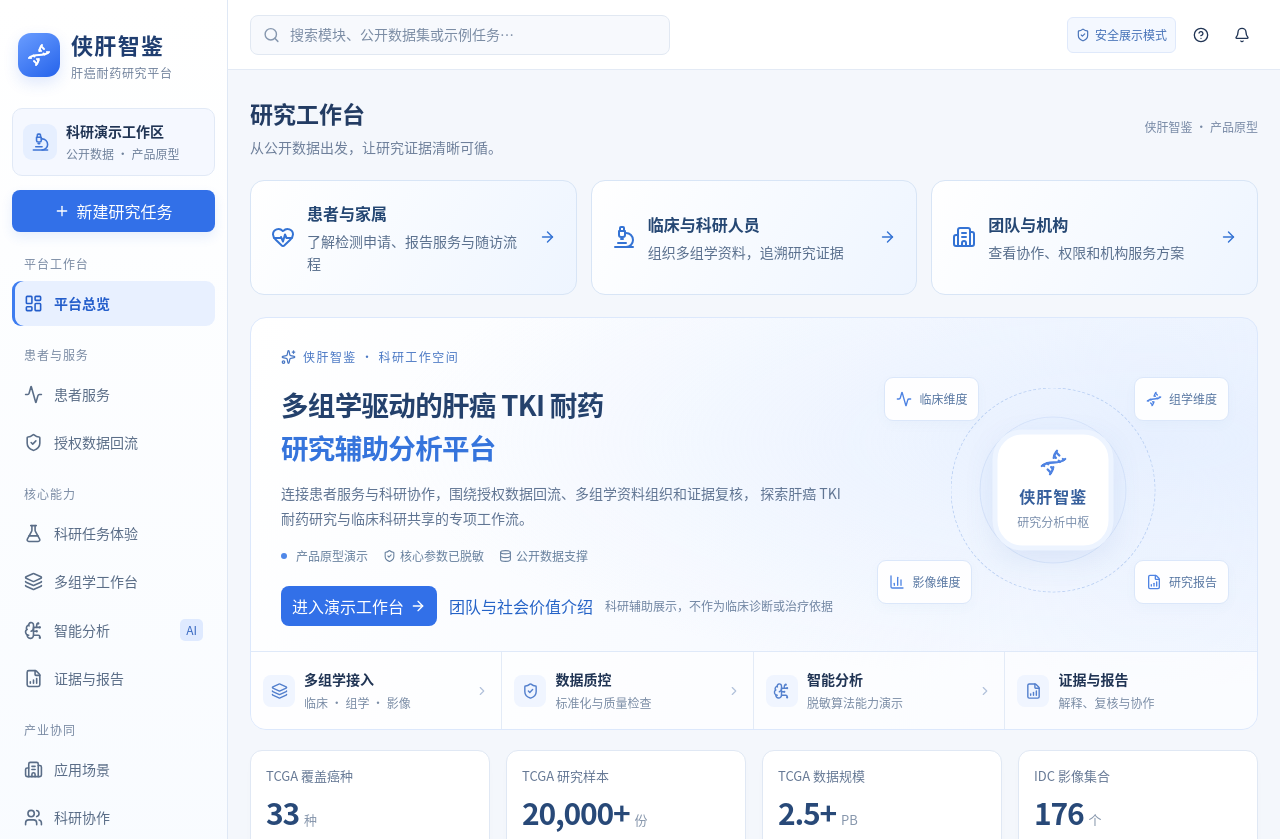
Test: 侠肝智鉴产业展示工作台 › 新建任务入口进入报告演示并关闭抽屉
The image size is (1280, 839).
What coordinates should you click on to do the following:
click the button "新建研究任务"
I would click on:
 (114, 211)
Its box is [12, 190, 215, 232].
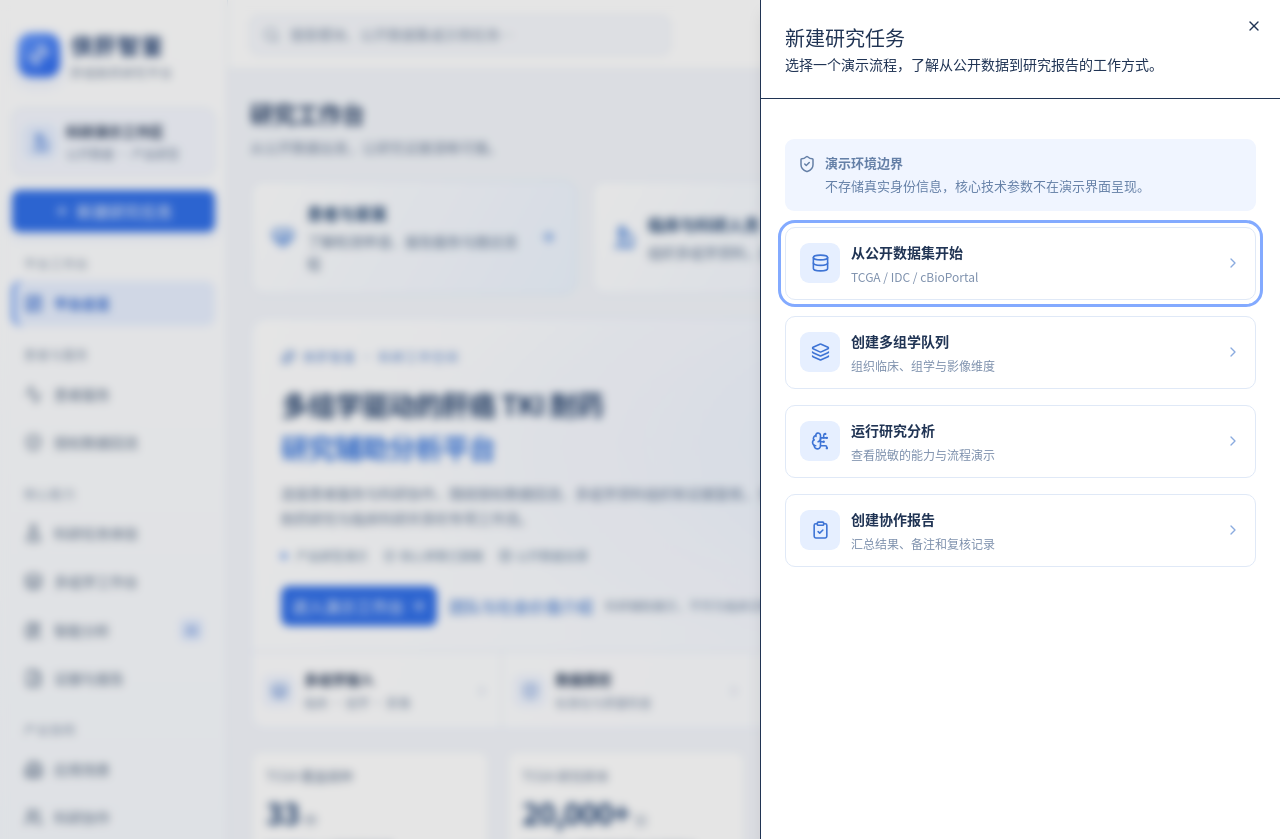
What coordinates should you click on to do the following:
click the button "创建协作报告 汇总结果、备注和复核记录"
I would click on:
 (820, 530)
Its box is [785, 494, 1256, 567].
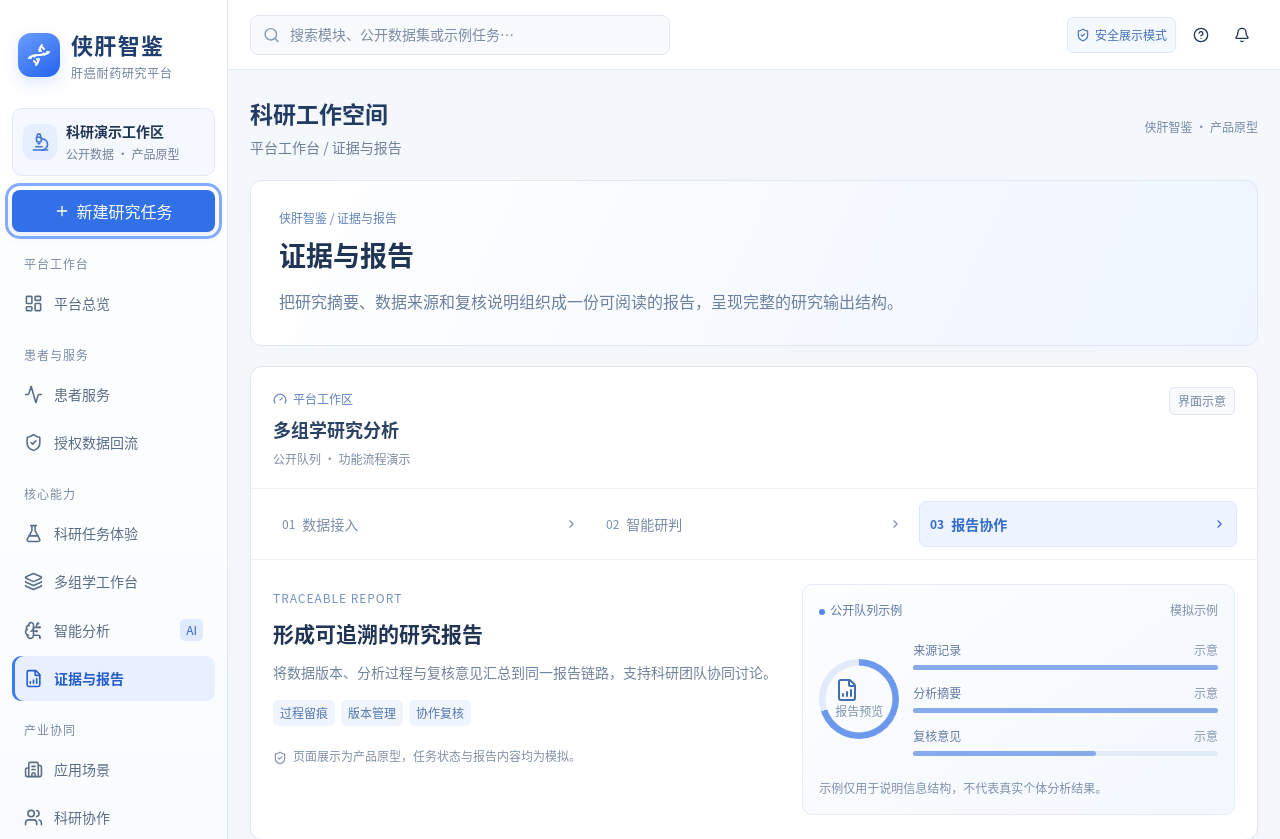
Expected: the heading "证据与报告" is shown, [279, 234, 414, 274]
Expected: the heading "形成可追溯的研究报告" is shown, [273, 618, 483, 648]
